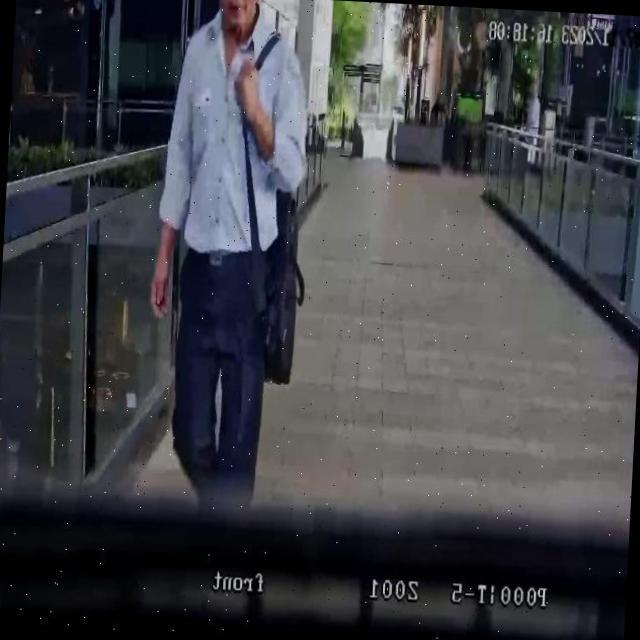person: (140, 0, 316, 508)
